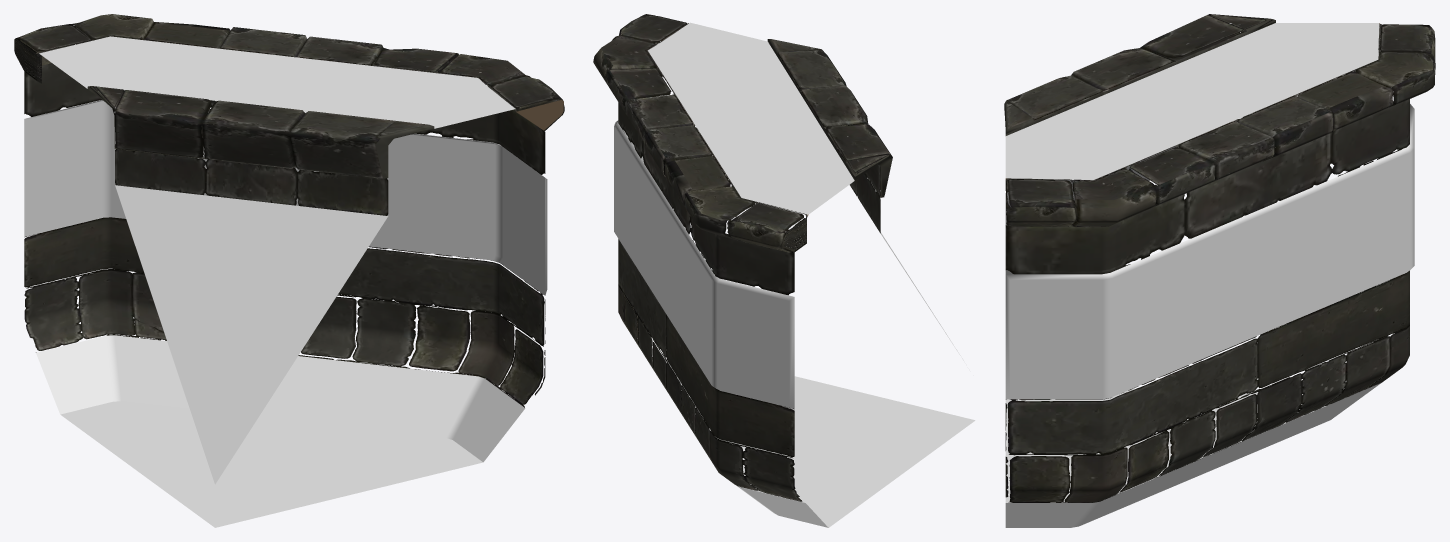
3 renders of one model, left to right at view 1: azimuth 30°, elevation 25°; view 2: azimuth 150°, elevation 25°; view 3: azimuth 270°, elevation 25°, orthographic. The views are drawn at different scales.
Parts seen in each view (by area): view 1: SM_Greathall_Stepout_Corner_4x4_01_LOD0; view 2: SM_Greathall_Stepout_Corner_4x4_01_LOD0; view 3: SM_Greathall_Stepout_Corner_4x4_01_LOD0.
Part boxes in pixels (box(x1,y1,x2,y2)): SM_Greathall_Stepout_Corner_4x4_01_LOD0: box(14, 14, 564, 527); SM_Greathall_Stepout_Corner_4x4_01_LOD0: box(593, 14, 975, 527); SM_Greathall_Stepout_Corner_4x4_01_LOD0: box(1004, 14, 1435, 527).
Size of the model in its own units: 4.33 by 4.07 by 4.27.
Materials: 2 (1 with a texture image).
